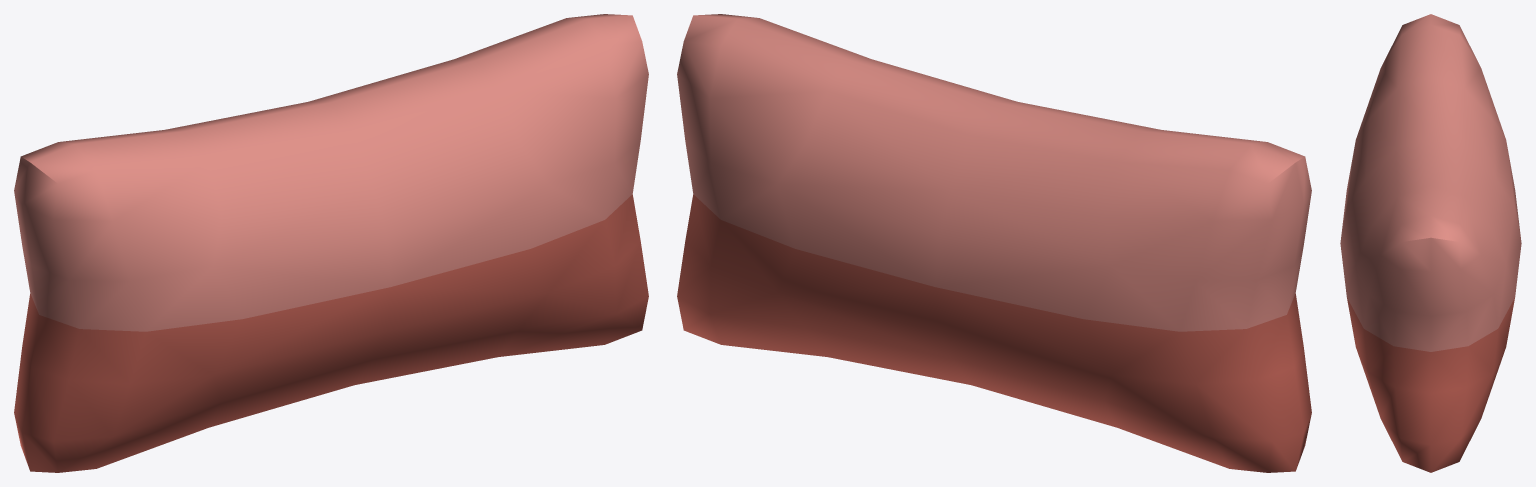
The model's file is itch_tiny_pleasant_picnic_pillow_small_red.glb.
The picture shows the model from 3 angles, left to right: view 1: azimuth 30°, elevation 25°; view 2: azimuth 150°, elevation 25°; view 3: azimuth 270°, elevation 25°; orthographic projection. The views are drawn at different scales.
Parts seen in each view (by area): view 1: pillow_small_red; view 2: pillow_small_red; view 3: pillow_small_red.
Boxes of the visible parts, x1,y1,x2,y2 form: pillow_small_red: [14, 14, 648, 472]; pillow_small_red: [677, 14, 1311, 472]; pillow_small_red: [1340, 14, 1521, 472].
Bounding box in the file's own units: 0.96 × 0.48 × 0.32.
